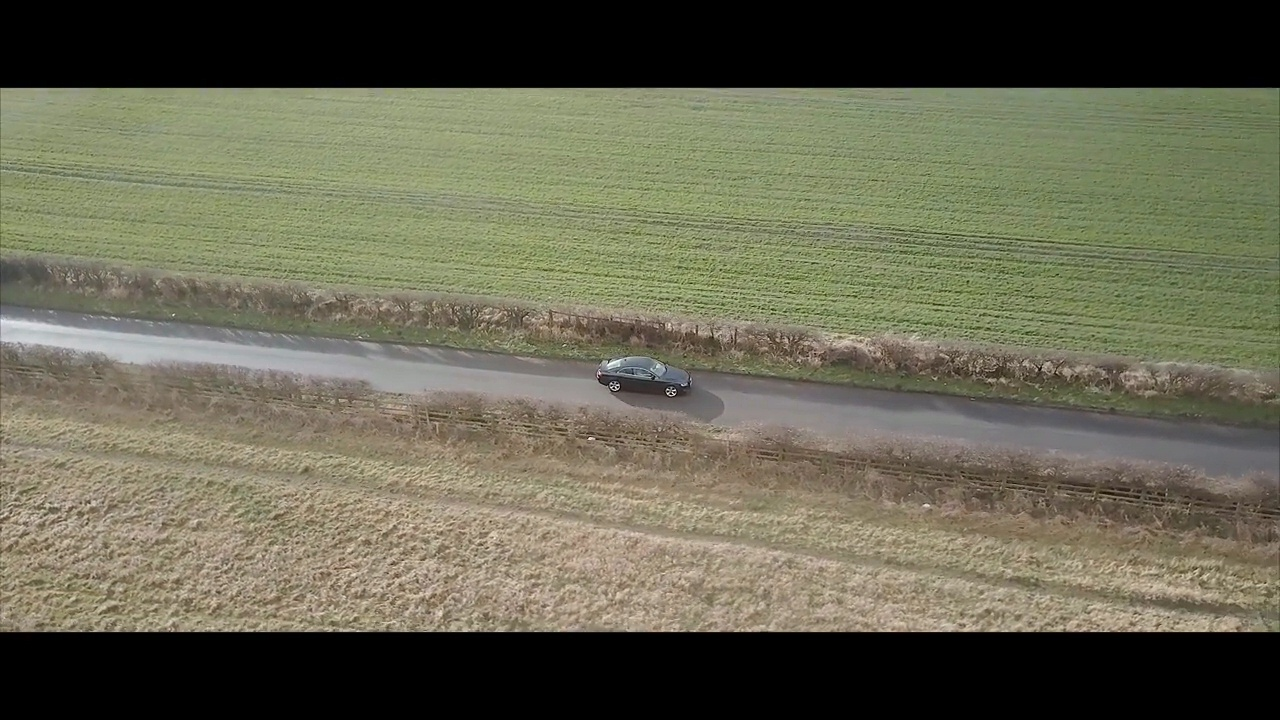araba: (594, 354, 694, 396)
